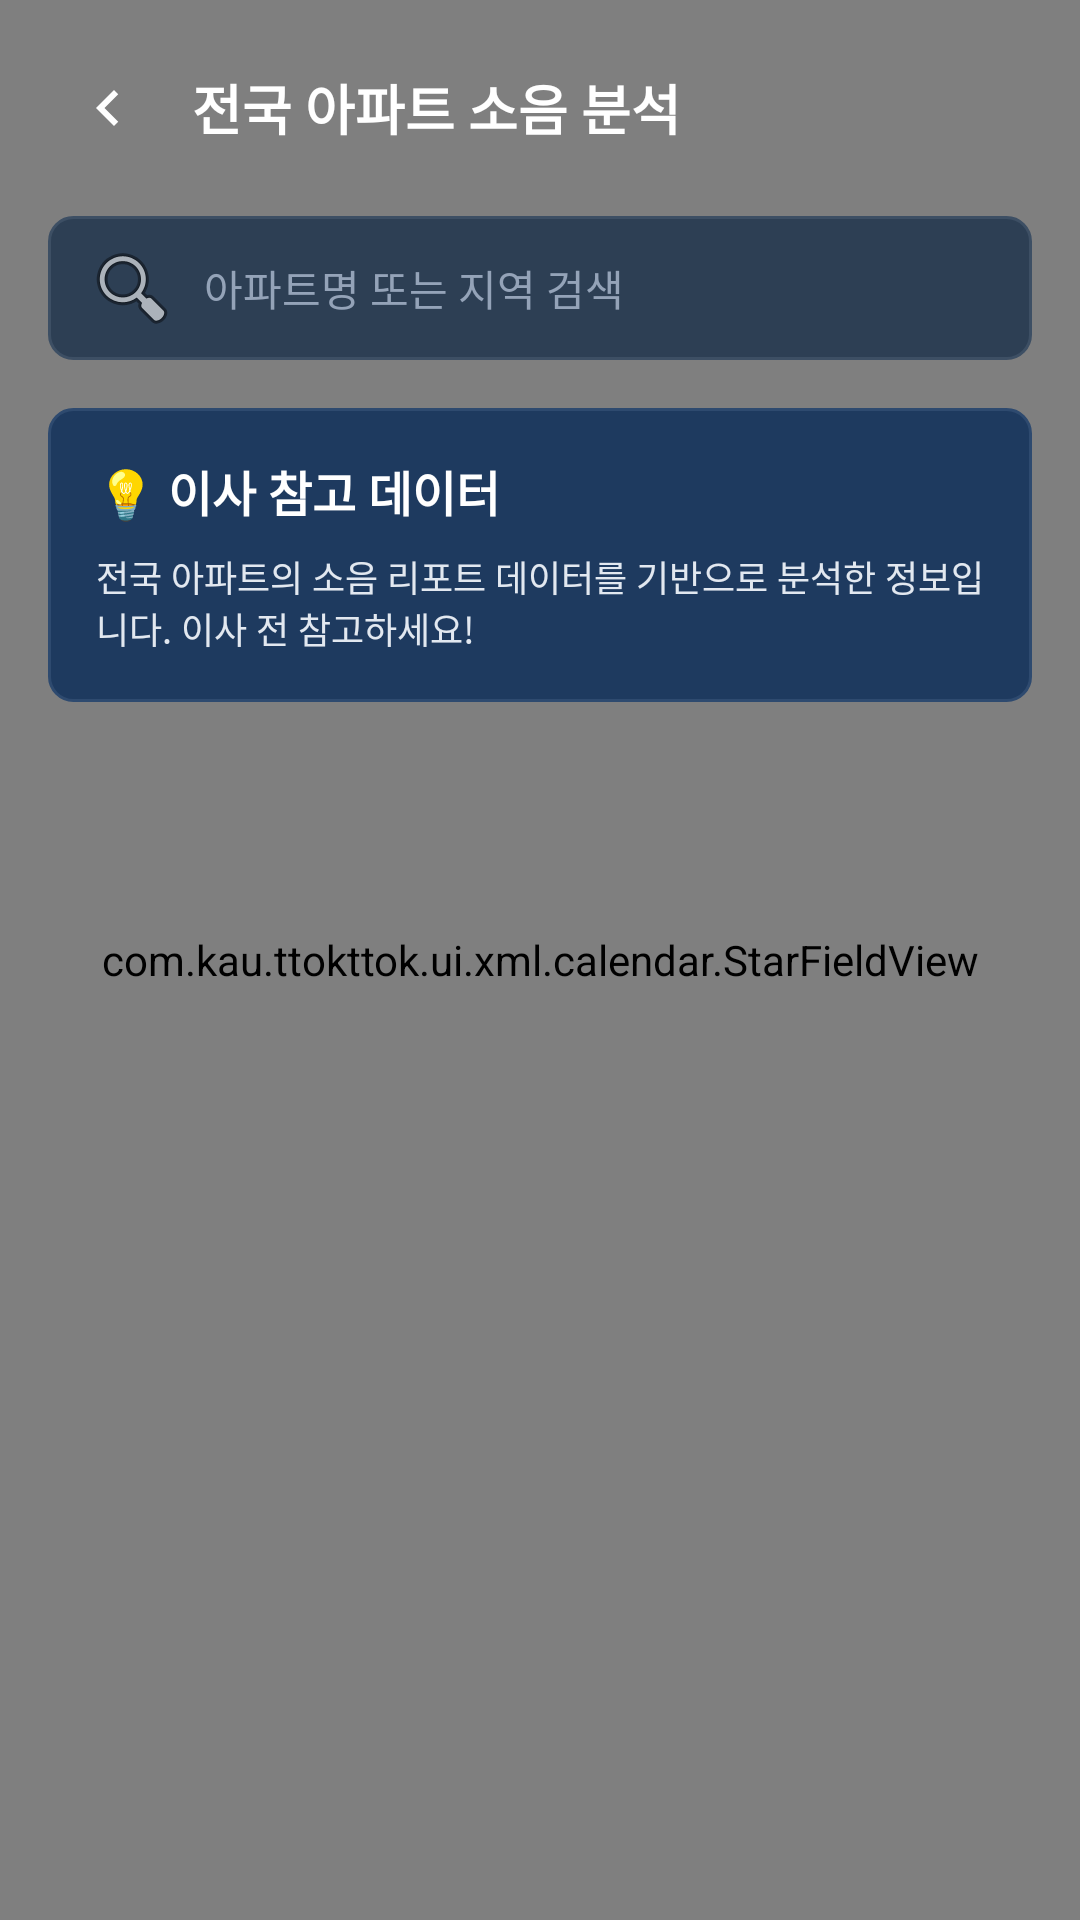

Screen size 1080px×1920px. Icon name, then its center in pixels as point (x, y):
뒤로가기: point (107, 108)
